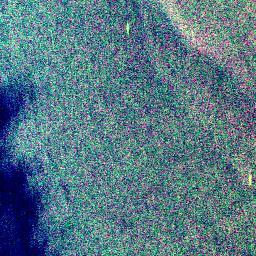Ship: (245, 168, 255, 190), (122, 19, 133, 37)
